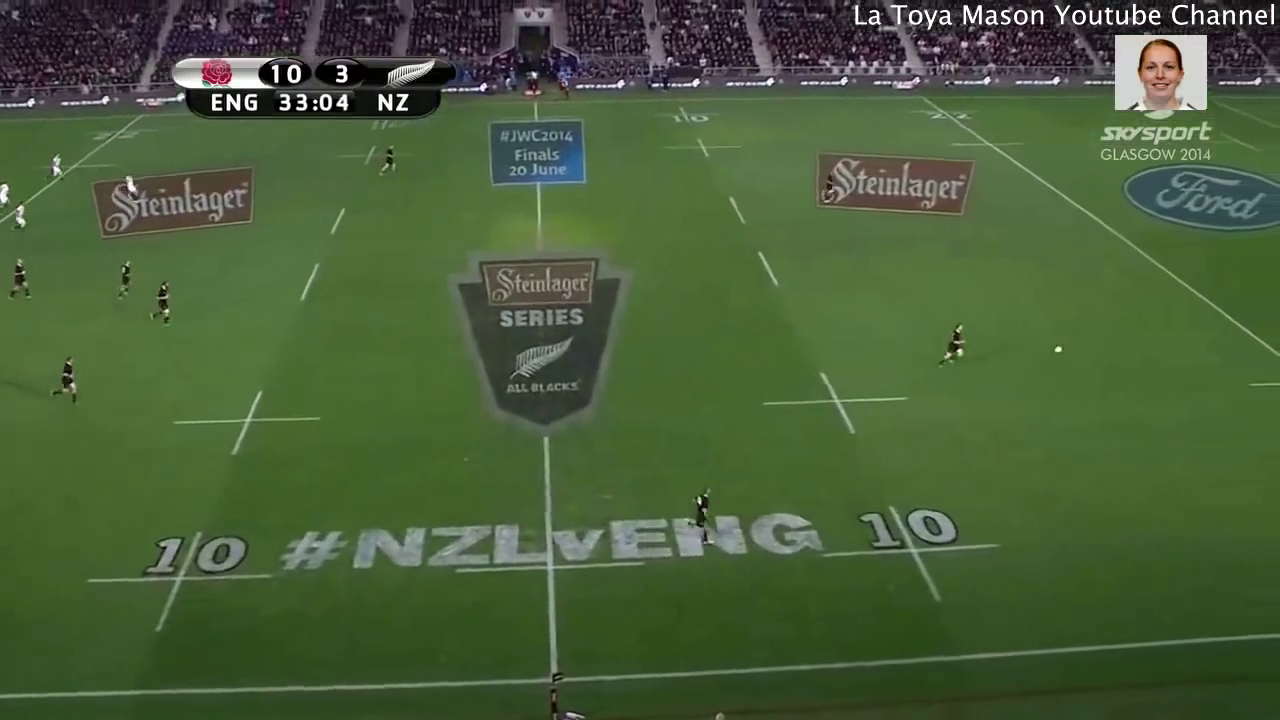10_metre: (82, 527, 278, 637), (815, 504, 1000, 606), (753, 369, 912, 441), (169, 388, 325, 457), (335, 141, 412, 168), (663, 136, 745, 158), (648, 104, 721, 127)
ball: (1048, 341, 1064, 360)
player: (50, 352, 82, 408), (685, 483, 713, 546), (938, 320, 968, 369), (149, 279, 173, 327), (10, 253, 31, 303), (113, 257, 136, 302), (377, 140, 399, 180), (45, 151, 66, 184), (11, 200, 28, 235), (1, 184, 12, 212)
